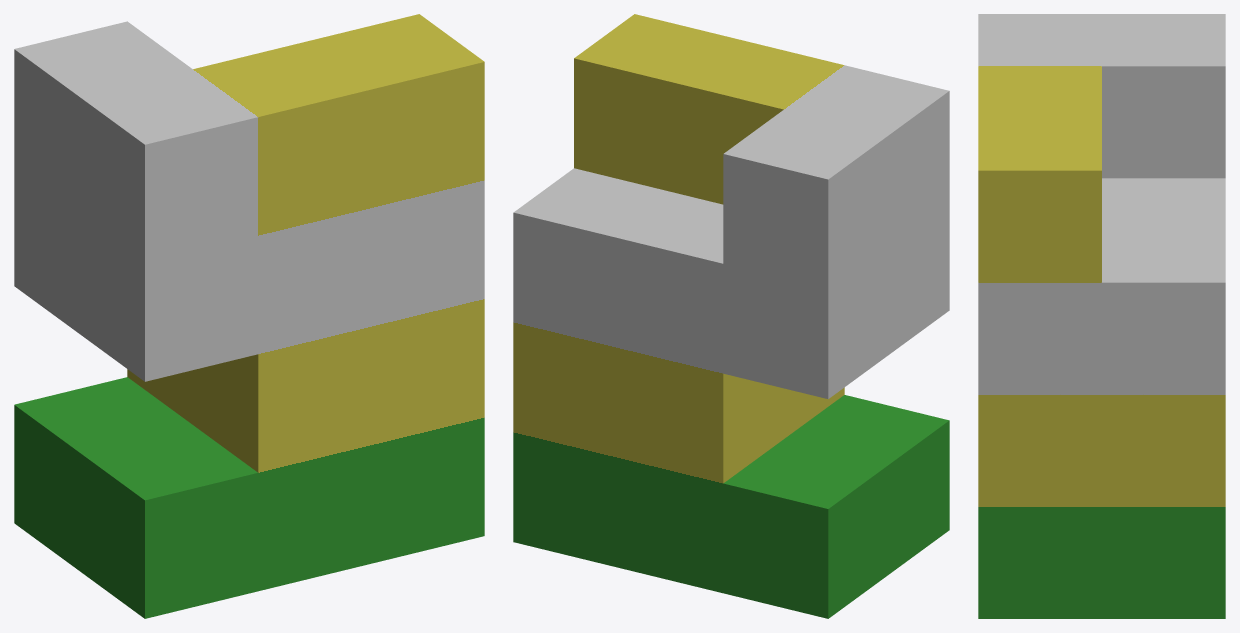
File: GobLegR.dae
3 views of the same model, side by side, from view 1: azimuth 30°, elevation 25°; view 2: azimuth 150°, elevation 25°; view 3: azimuth 270°, elevation 25° (orthographic). The views are drawn at different scales.
Visible parts, largest first — view 1: GobLegR; view 2: GobLegR; view 3: GobLegR.
Part boxes in pixels (<box>): GobLegR: <box>14,14,484,618</box>; GobLegR: <box>513,14,949,618</box>; GobLegR: <box>978,14,1225,618</box>.
Size of the model in its own units: 0.3 by 0.2 by 0.4.
Materials: 1 (1 with a texture image).
